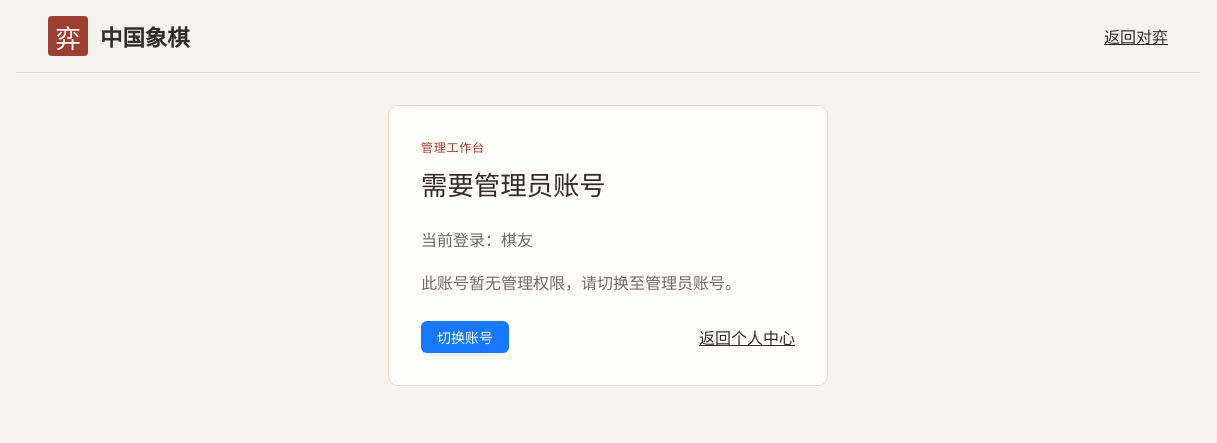
it: keeps the current account if switching fails and offers a retry
This screenshot has width=1217, height=443.
Click the button "切换账号" at (465, 337), box top-left (421, 321), bottom-right (509, 353)
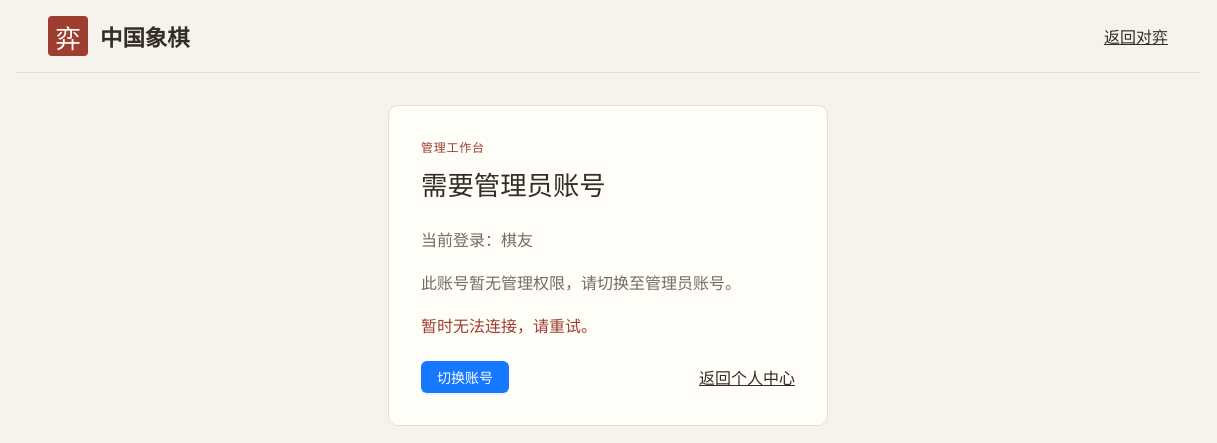
Expected: the message shows "暂时无法连接", top-left (421, 315), bottom-right (597, 337)
